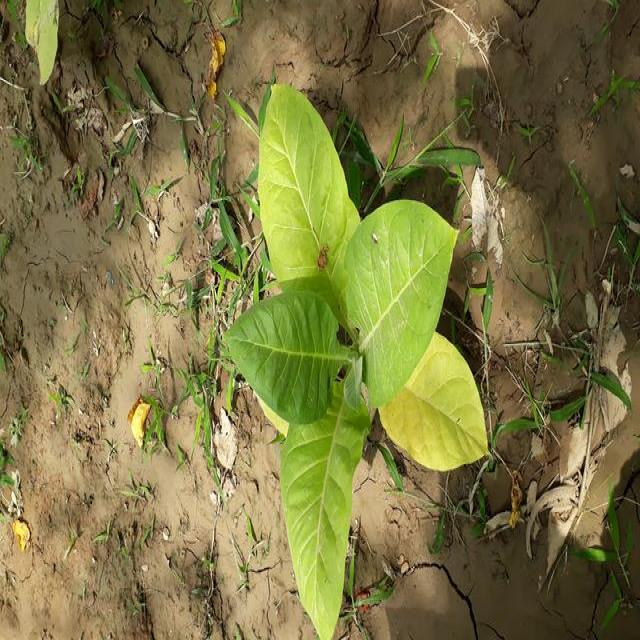crop: (229, 83, 490, 640)
